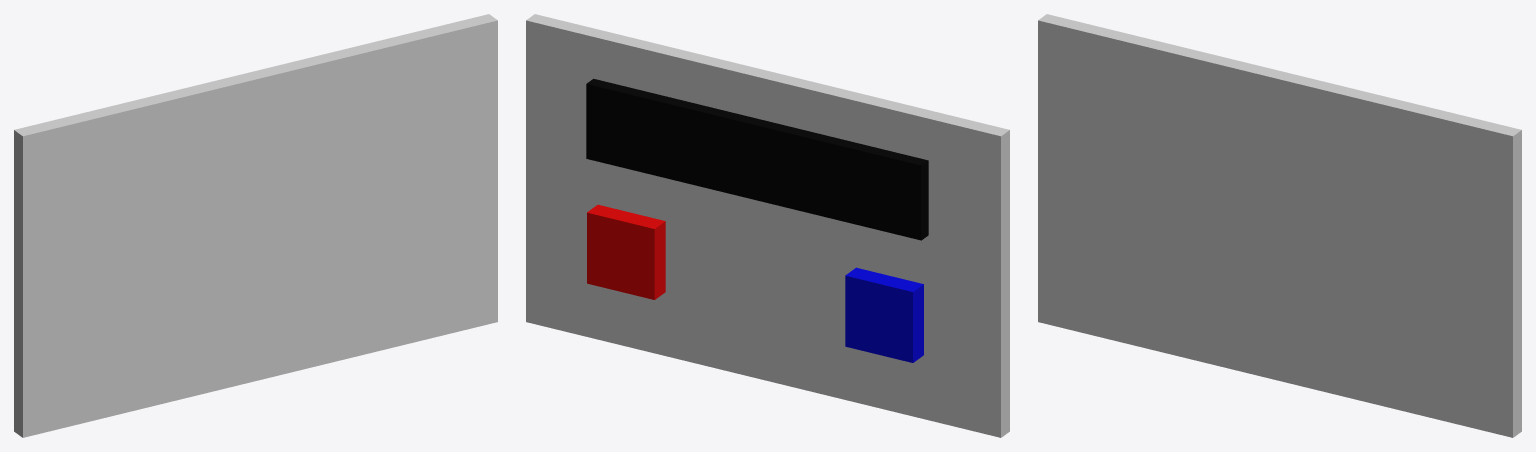
The model's file is Question_board.fbx.
3 views of the same model, side by side, from view 1: azimuth 30°, elevation 25°; view 2: azimuth 150°, elevation 25°; view 3: azimuth 330°, elevation 25° (orthographic).
Visible parts, largest first — view 1: pCube15; view 2: pCube15, pCube16, pCube17, pCube18; view 3: pCube15.
Boxes of the visible parts, <box> form: pCube15: <box>14,14,497,437</box>; pCube15: <box>526,14,1009,437</box>; pCube16: <box>586,78,928,240</box>; pCube17: <box>587,204,665,299</box>; pCube18: <box>845,267,923,362</box>; pCube15: <box>1038,14,1521,437</box>.
Size of the model in its own units: 386 by 234 by 29.88.
